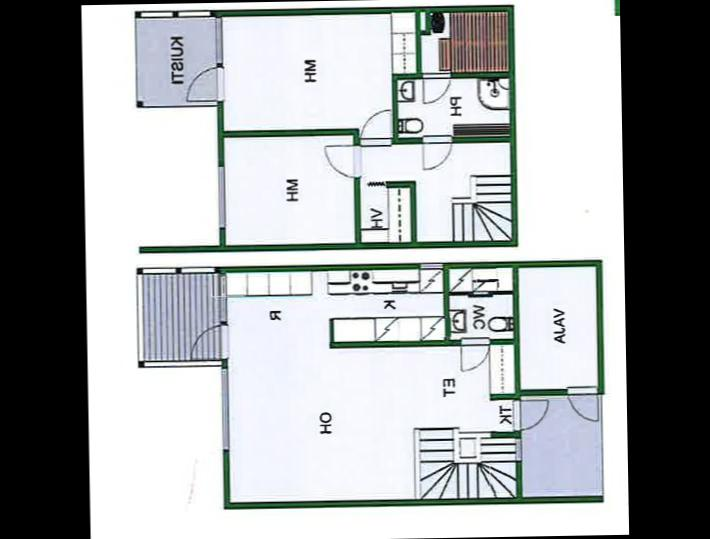door: (187, 318, 230, 362), (182, 59, 224, 103), (356, 104, 394, 148), (562, 382, 600, 422), (322, 140, 360, 179), (458, 332, 492, 372), (420, 128, 452, 170), (511, 397, 551, 428), (420, 68, 454, 102)
window: (217, 364, 233, 454), (214, 157, 227, 233), (414, 256, 447, 272), (512, 432, 524, 463)
